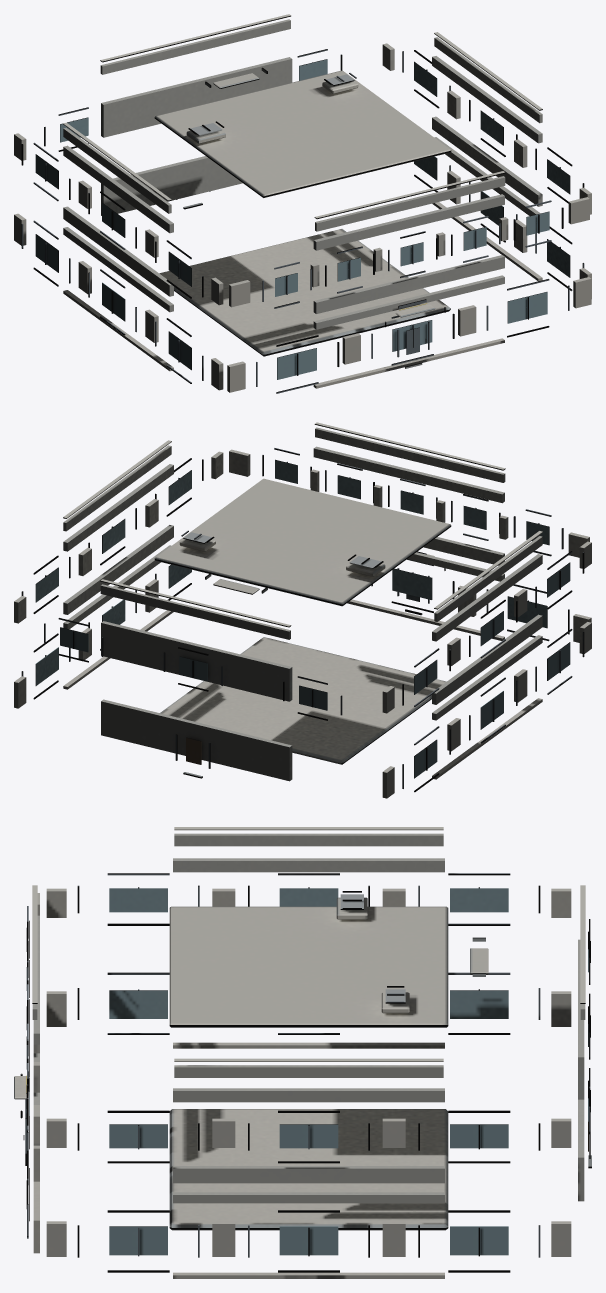
The model's file is 0-20261016-1900-ev065-r12-town-lotlarge_baked.glb.
3 views of the same model, one above another, from view 1: azimuth 30°, elevation 25°; view 2: azimuth 150°, elevation 25°; view 3: azimuth 270°, elevation 25° (orthographic). The views are drawn at different scales.
Parts seen in each view (by area): view 1: SW_Town_LotLarge; view 2: SW_Town_LotLarge; view 3: SW_Town_LotLarge.
Part boxes in pixels (x1,y1,x2,y2): SW_Town_LotLarge: [14, 14, 591, 393]; SW_Town_LotLarge: [14, 422, 591, 798]; SW_Town_LotLarge: [14, 827, 591, 1278].
Bounding box in the file's own units: 18.23 × 8.14 × 18.66.
Materials: 1 (1 with a texture image).
